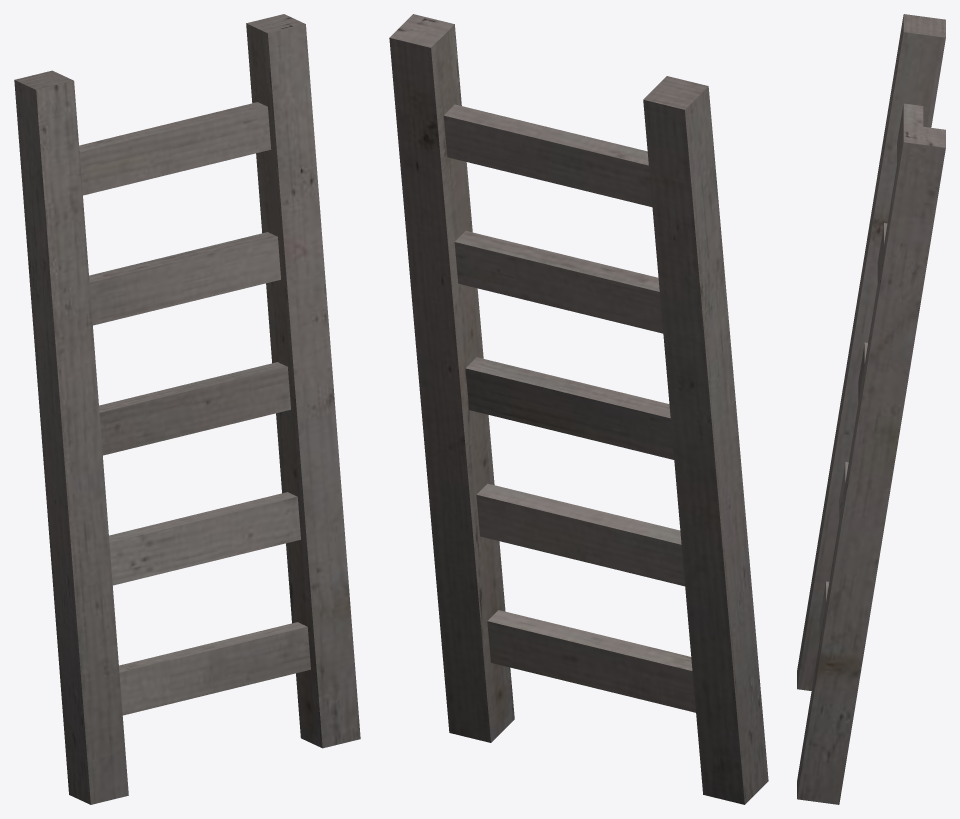
File: ladder.glb
3 views of the same model, side by side, from view 1: azimuth 30°, elevation 25°; view 2: azimuth 150°, elevation 25°; view 3: azimuth 270°, elevation 25° (orthographic). The views are drawn at different scales.
Parts seen in each view (by area): view 1: Cube; view 2: Cube; view 3: Cube.
Part boxes in pixels (x1=…): Cube: x1=14, y1=14, x2=360, y2=804; Cube: x1=389, y1=14, x2=768, y2=804; Cube: x1=797, y1=14, x2=945, y2=804.
Size of the model in its own units: 0.8802 by 2.12 by 0.4322.
Materials: 1 (1 with a texture image).
